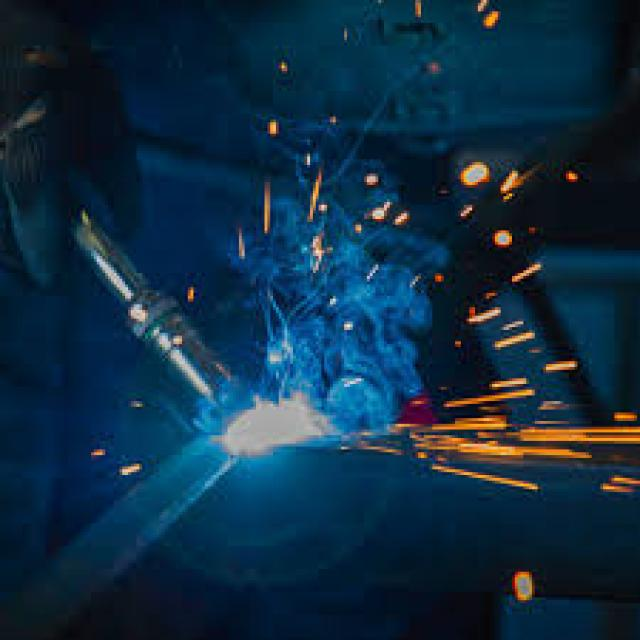welding: (225, 397, 317, 445)
